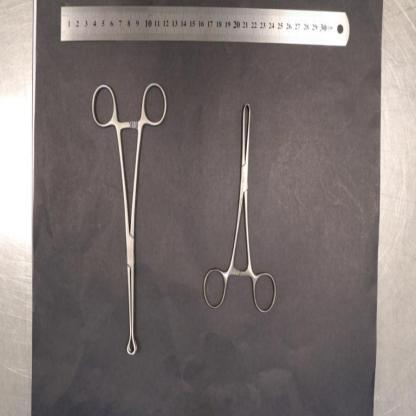8 Babcock Tissue Forceps: (90, 80, 168, 358)
Allis Tissue Forceps: (202, 101, 277, 318)
